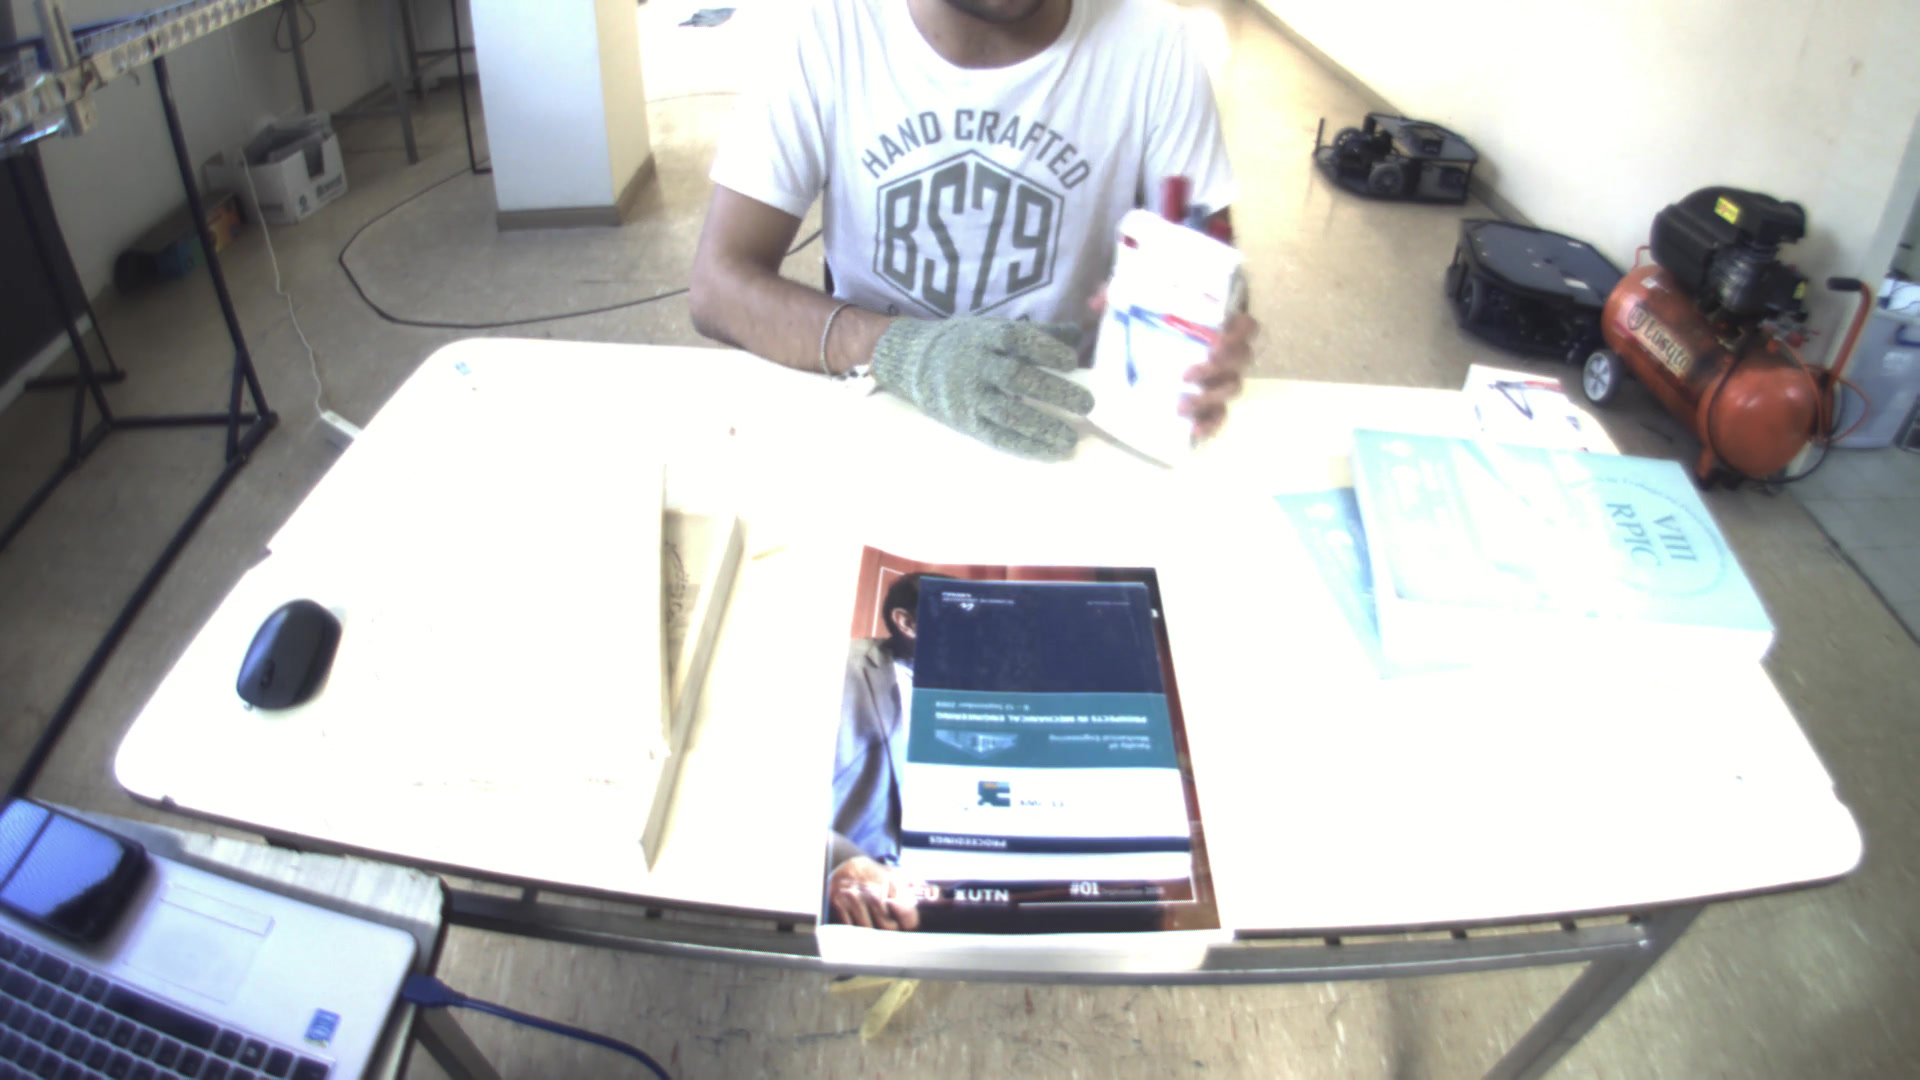hand: (865, 297, 1104, 458), (1179, 301, 1270, 444)
